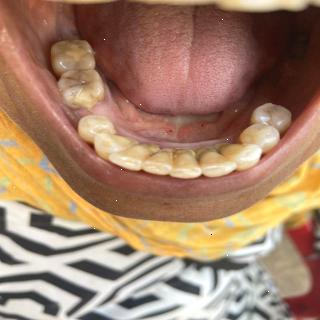LL1BC_healthy: (240, 122, 280, 151), (77, 115, 116, 141)
LL1M_sdecay: (58, 69, 105, 107)
LL2BC_mdecay: (250, 102, 292, 131)
LL2M_healthy: (50, 40, 96, 74)
LLCI_sdecay: (171, 149, 201, 180)
LLC_healthy: (94, 132, 137, 158)
LLC_sdecay: (216, 143, 261, 168)
LLLI_sdecay: (107, 141, 161, 171), (198, 147, 237, 177)
LRCI_sdecay: (144, 148, 172, 175)
